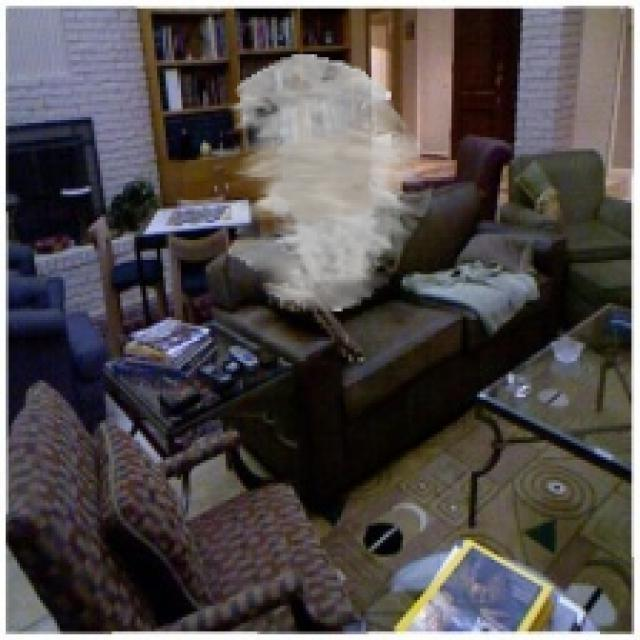Smoke: (220, 55, 426, 312)
